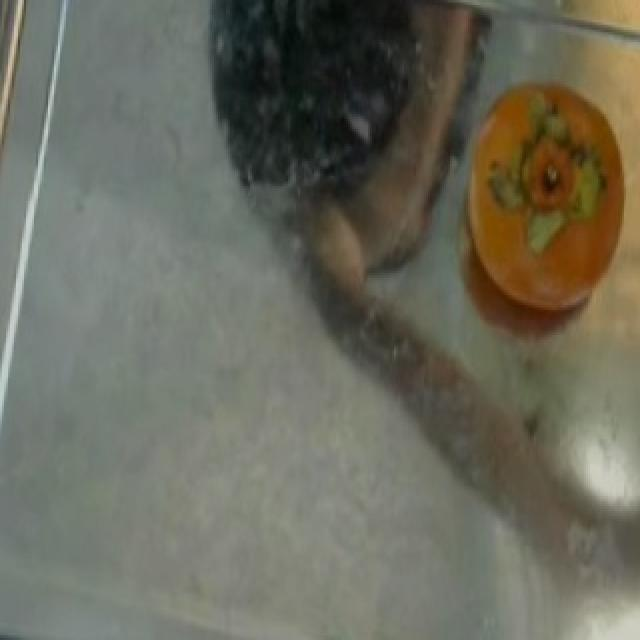Fruit: (436, 57, 638, 350), (472, 0, 640, 64)
